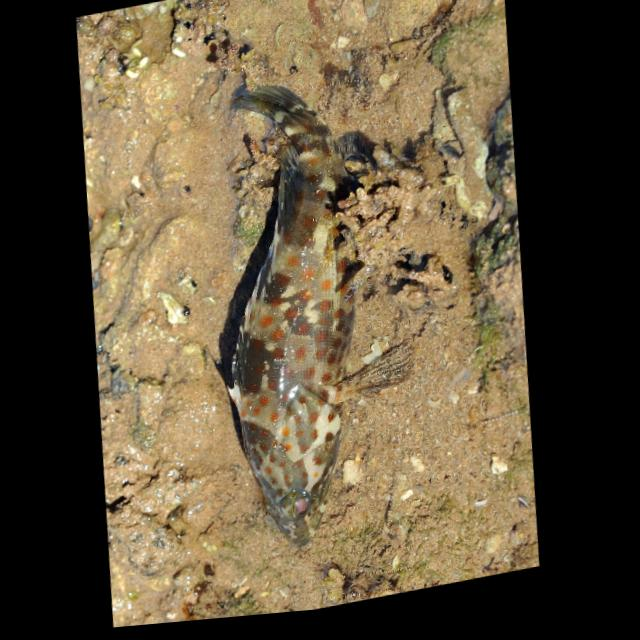Groupers: (186, 100, 382, 556)
